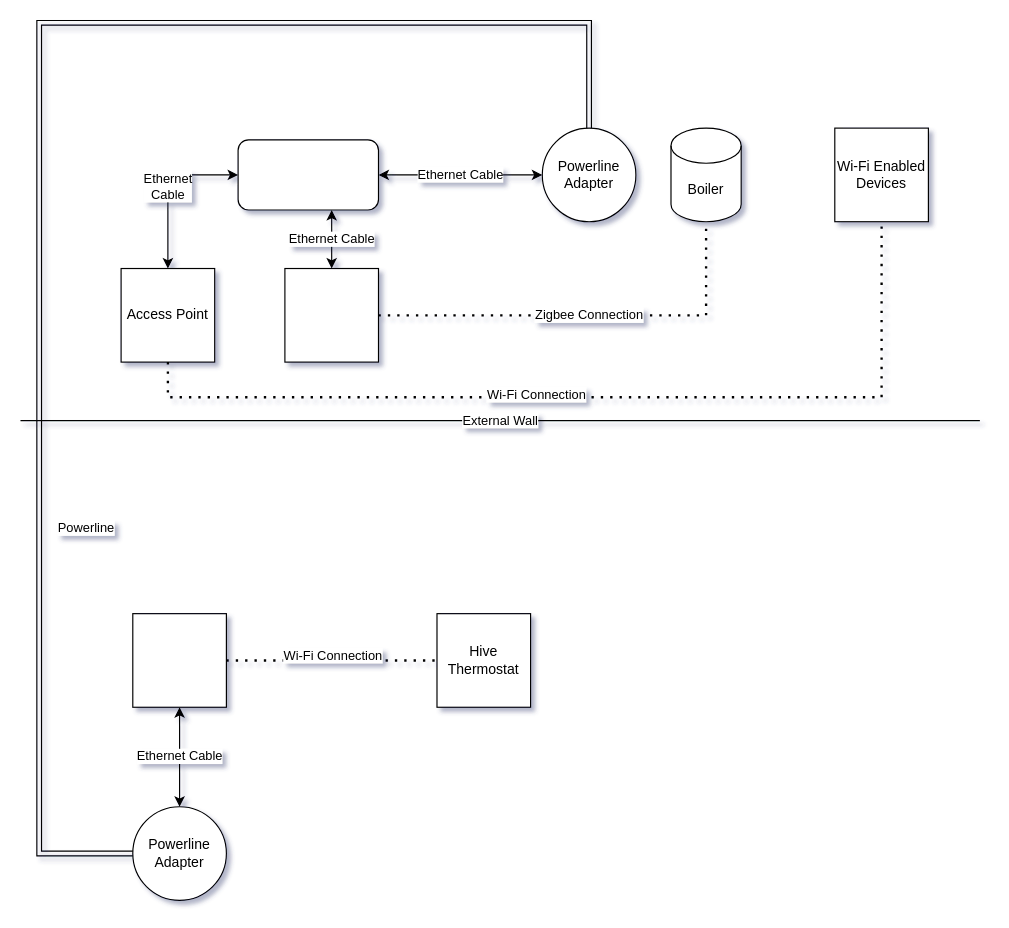
The diagram is 1009 pixels wide and 928 high, and some of its shapes have lost their labels. The box of each missing label's shape, as (x1, y1, x2, y2) in pixels:
Hive Hub: (284, 267, 378, 362)
Router: (132, 612, 226, 707)
Unmanaged Switch: (237, 139, 378, 210)
